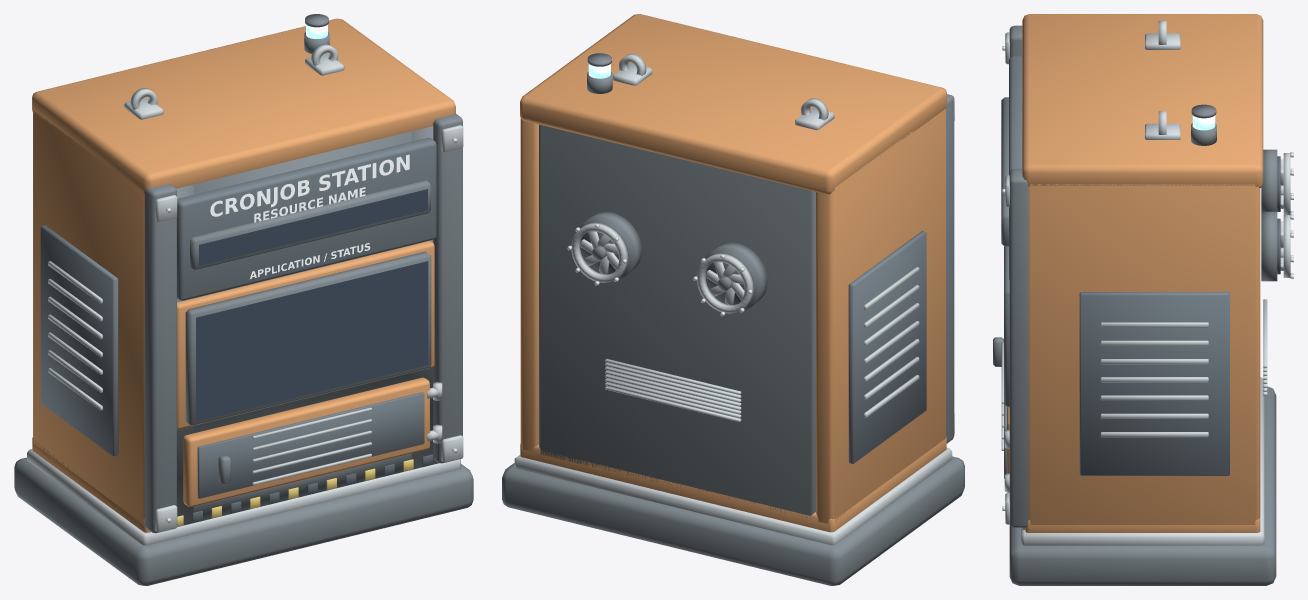
Rendered from cronjob_station_enhanced.glb.
3 renders of one model, left to right at view 1: azimuth 30°, elevation 25°; view 2: azimuth 150°, elevation 25°; view 3: azimuth 270°, elevation 25°, orthographic. The views are drawn at different scales.
Visible parts, largest first — view 1: Roof_orange, LiveViewSurface_glass, SideWall_orange, Skid_frame, CornerPost_frame, FrontHeader_graphite, SideServicePanel_graphite, DoorMoving_Inset_graphite, DoorMoving_Panel_orange, SkidDeck_steel, LiveViewSurfaceFrame_frame, ResourceNameSurface_glass (+15 smaller); view 2: BackWall_frame, Roof_orange, SideWall_orange, Skid_frame, SideServicePanel_graphite, SkidDeck_steel, KickPlate_orange, RearFan_steel, RearVent_steel, CornerPost_frame, RearFan_frame, SideLouver_steel (+3 smaller); view 3: SideWall_orange, Roof_orange, SideServicePanel_graphite, Skid_frame, CornerPost_frame, SideLouver_steel, SkidDeck_steel, RearFan_frame, KickPlate_orange, FrontHeader_graphite, RearFan_steel, ResourceNameSurfaceFrame_frame (+7 smaller).
Part boxes in pixels (<box>): Roof_orange: <box>32,18,455,194</box>; LiveViewSurface_glass: <box>196,261,428,421</box>; SideWall_orange: <box>33,111,144,523</box>; Skid_frame: <box>14,457,473,585</box>; CornerPost_frame: <box>144,114,462,533</box>; FrontHeader_graphite: <box>177,137,436,300</box>; SideServicePanel_graphite: <box>40,225,118,456</box>; DoorMoving_Inset_graphite: <box>197,392,424,498</box>; DoorMoving_Panel_orange: <box>183,377,429,506</box>; SkidDeck_steel: <box>27,449,460,545</box>; LiveViewSurfaceFrame_frame: <box>185,251,431,425</box>; ResourceNameSurface_glass: <box>199,189,427,265</box>; BackWall_frame: <box>539,124,815,518</box>; Roof_orange: <box>520,14,946,194</box>; SideWall_orange: <box>520,109,945,523</box>; Skid_frame: <box>502,456,964,585</box>; SideServicePanel_graphite: <box>848,230,926,463</box>; SkidDeck_steel: <box>514,447,952,545</box>; KickPlate_orange: <box>520,437,946,532</box>; RearFan_steel: <box>571,223,753,313</box>; RearVent_steel: <box>605,359,741,422</box>; CornerPost_frame: <box>946,94,954,443</box>; RearFan_frame: <box>579,211,767,311</box>; SideLouver_steel: <box>864,267,919,417</box>; SideWall_orange: <box>1028,184,1260,524</box>; Roof_orange: <box>1022,14,1263,188</box>; SideServicePanel_graphite: <box>1079,292,1229,475</box>; Skid_frame: <box>1009,386,1276,585</box>; CornerPost_frame: <box>1009,25,1028,527</box>; SideLouver_steel: <box>1100,322,1208,437</box>; SkidDeck_steel: <box>1021,377,1264,545</box>; RearFan_frame: <box>1261,149,1277,281</box>; KickPlate_orange: <box>1025,518,1260,532</box>; FrontHeader_graphite: <box>1009,56,1022,279</box>; RearFan_steel: <box>1280,153,1290,277</box>; ResourceNameSurfaceFrame_frame: <box>1001,97,1008,246</box>.
Size of the model in its own units: 2 by 2.48 by 1.51.
